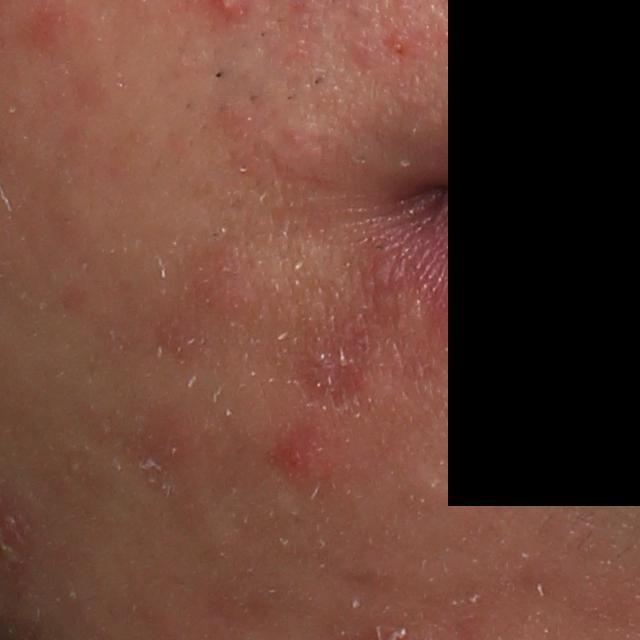papule: (178, 242, 254, 330), (273, 431, 326, 481)
